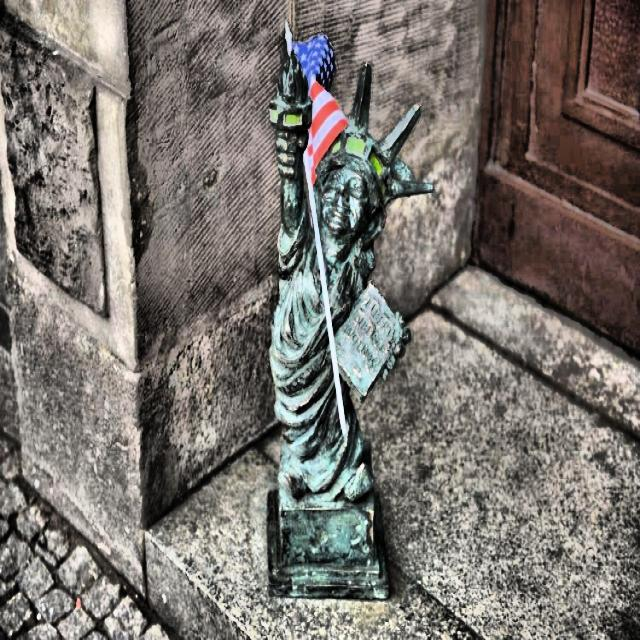LadyWolnosc: (268, 26, 432, 598)
